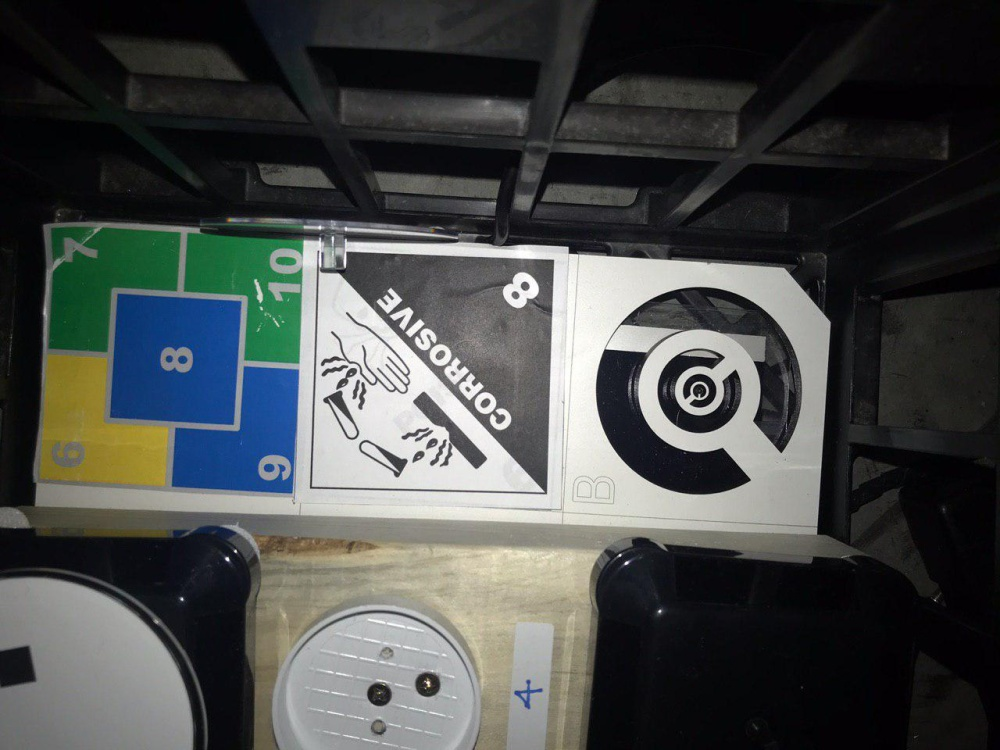Corrosive: (294, 239, 568, 510)
